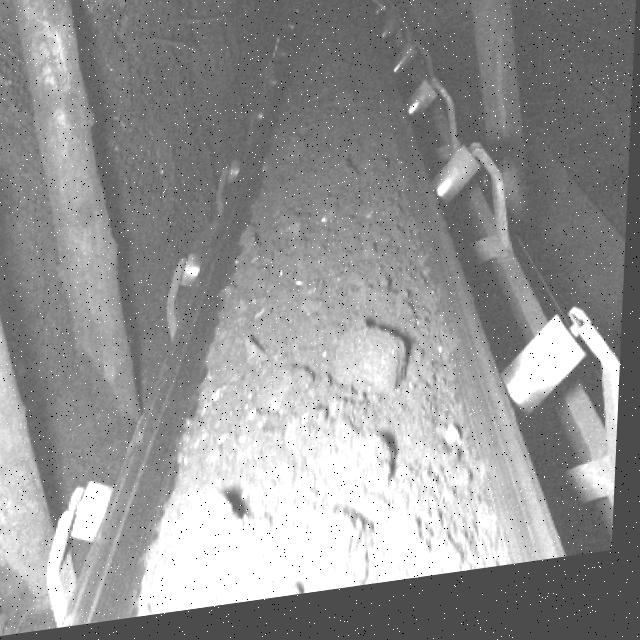large_sized_coal: (172, 489, 280, 605), (338, 332, 416, 410), (314, 511, 372, 579), (259, 375, 319, 431)
